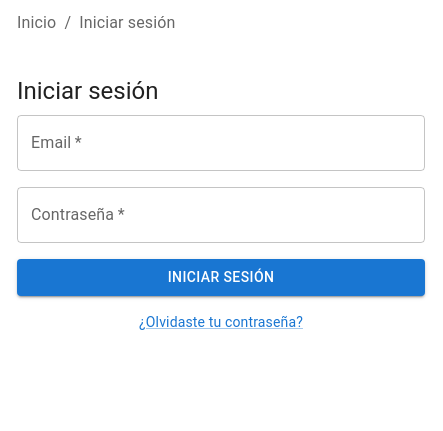
Test: LoginForm (RF-01) › si se superan los intentos, pide esperar (SEC-02)
Type "ana@ejemplo.com" into the field labelled "Email *".
click(221, 143); type("ana@ejemplo.com")  # box [17,115,425,171]
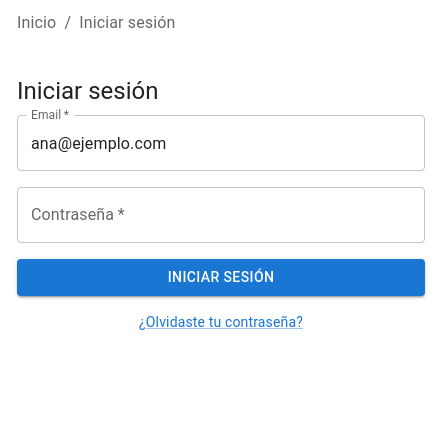
Type "Bici-Azul-Lluvia-47" into the password field labelled "Contraseña *".
click(221, 215); type("Bici-Azul-Lluvia-47")  # box [17,187,425,243]
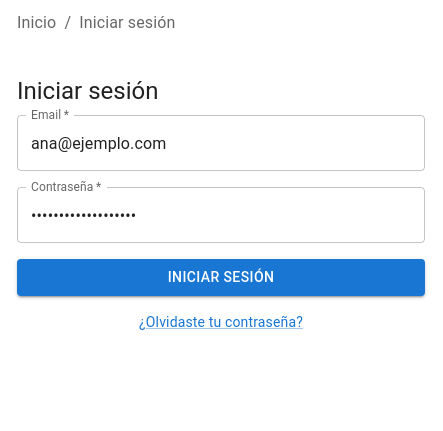
Click the button "Iniciar sesión".
click(221, 278)  # box [17,259,425,296]
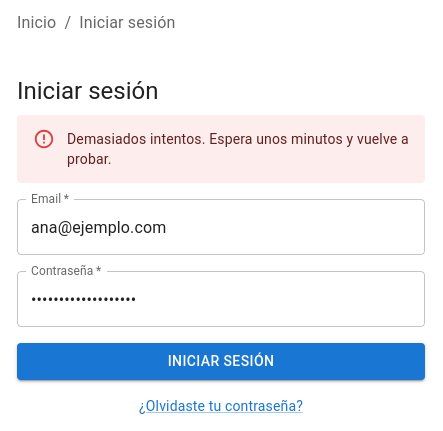
Check: the text "Demasiados intentos. Espera unos minutos y vuelve a probar." is shown, box [67,121,409,177]
